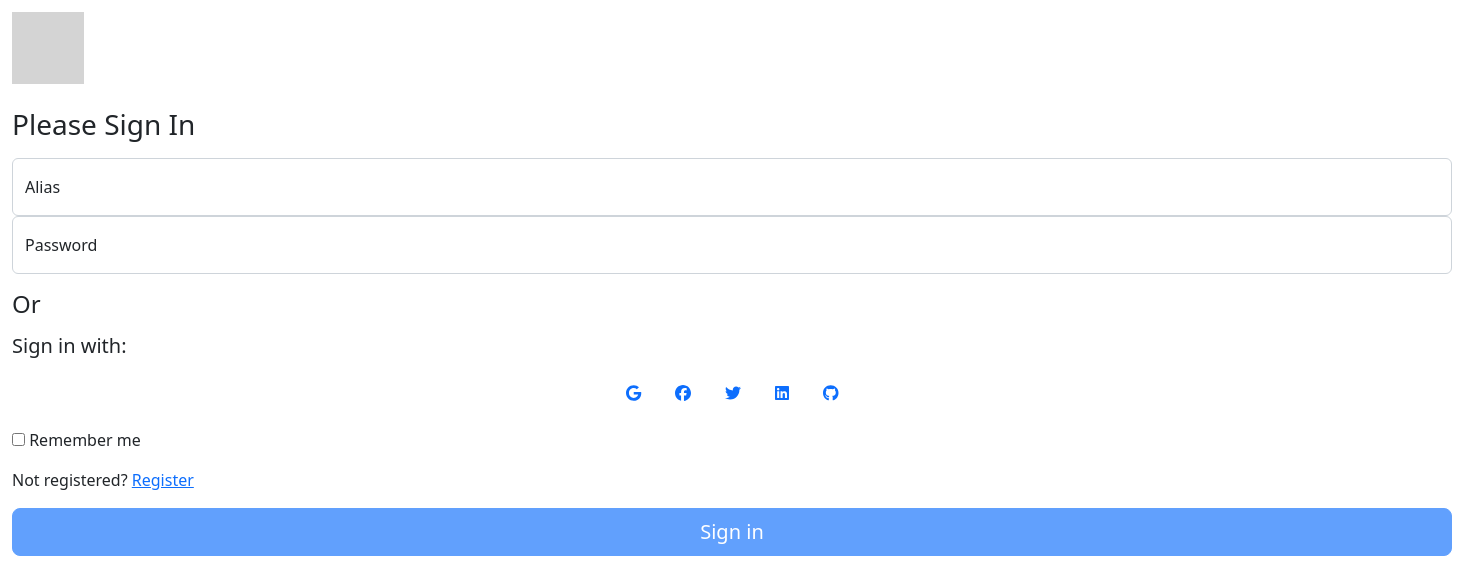
Test: Login Component › should disable sign-in button if either fields is cleared
Type "@alias" into the field labelled "Alias". click: (732, 187)
box: [12, 158, 1452, 216]
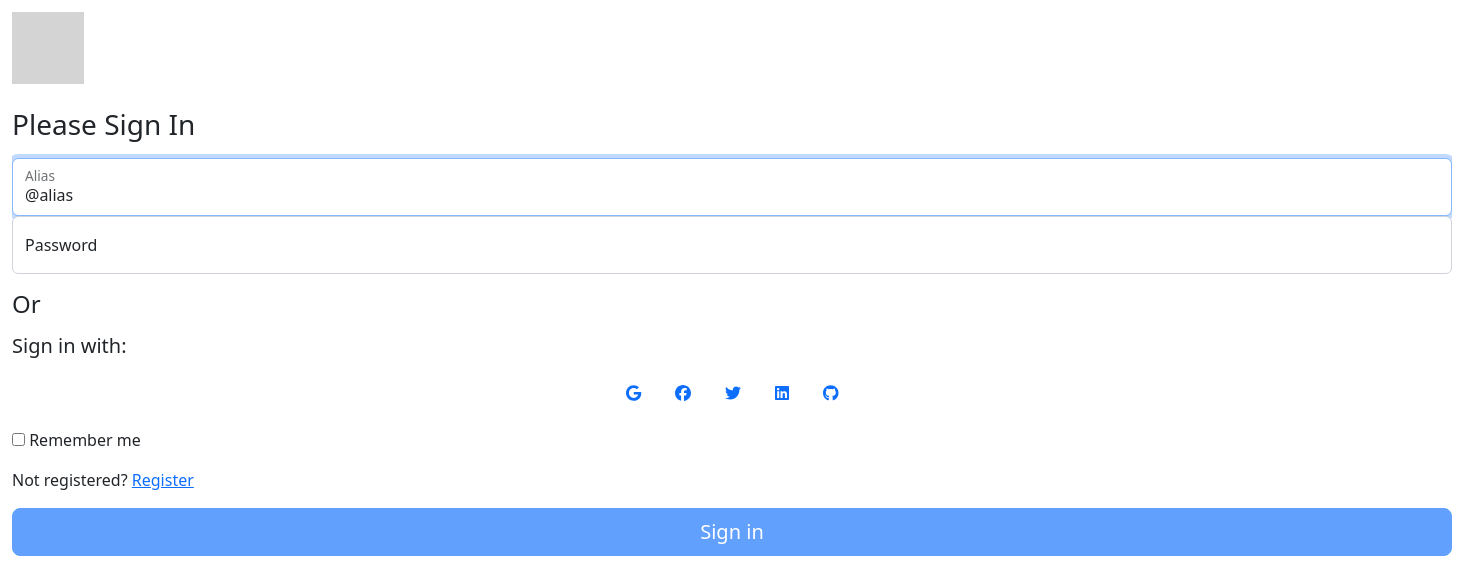
Type "password" into the password field labelled "Password". click: (732, 245)
box: [12, 216, 1452, 274]
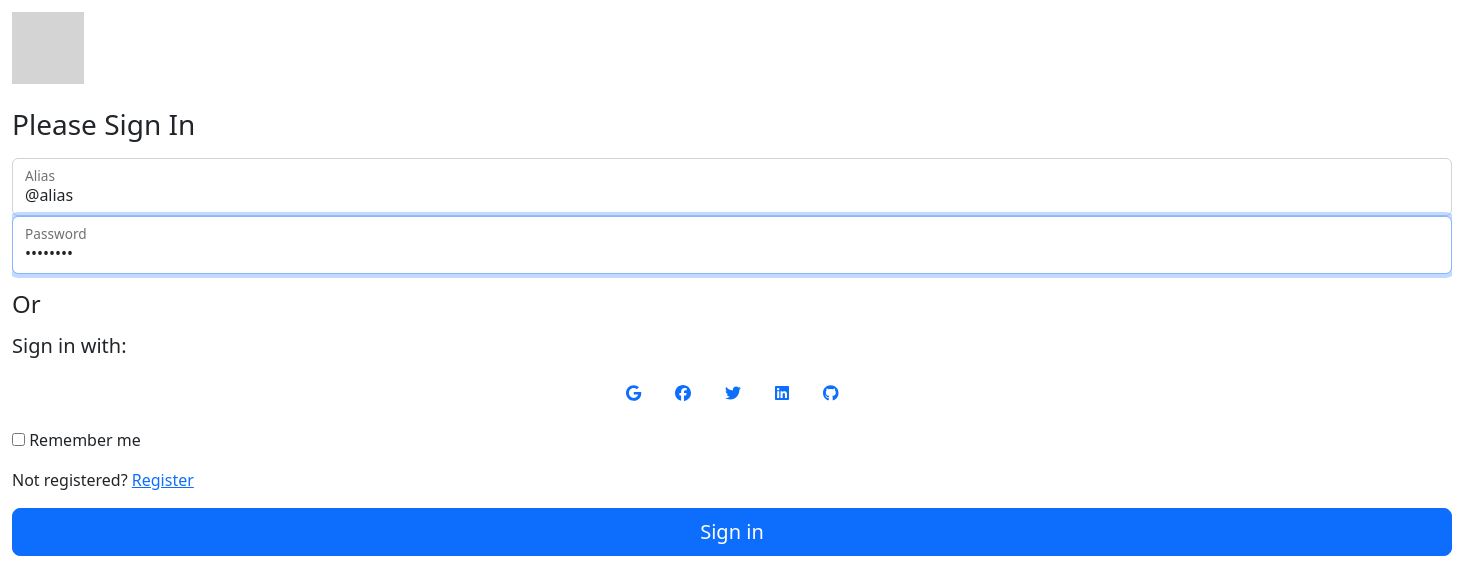
Expected: the button "Sign in" is enabled, [12, 508, 1452, 556]
Clear the field labelled "Alias". click: (732, 187)
box: [12, 158, 1452, 216]
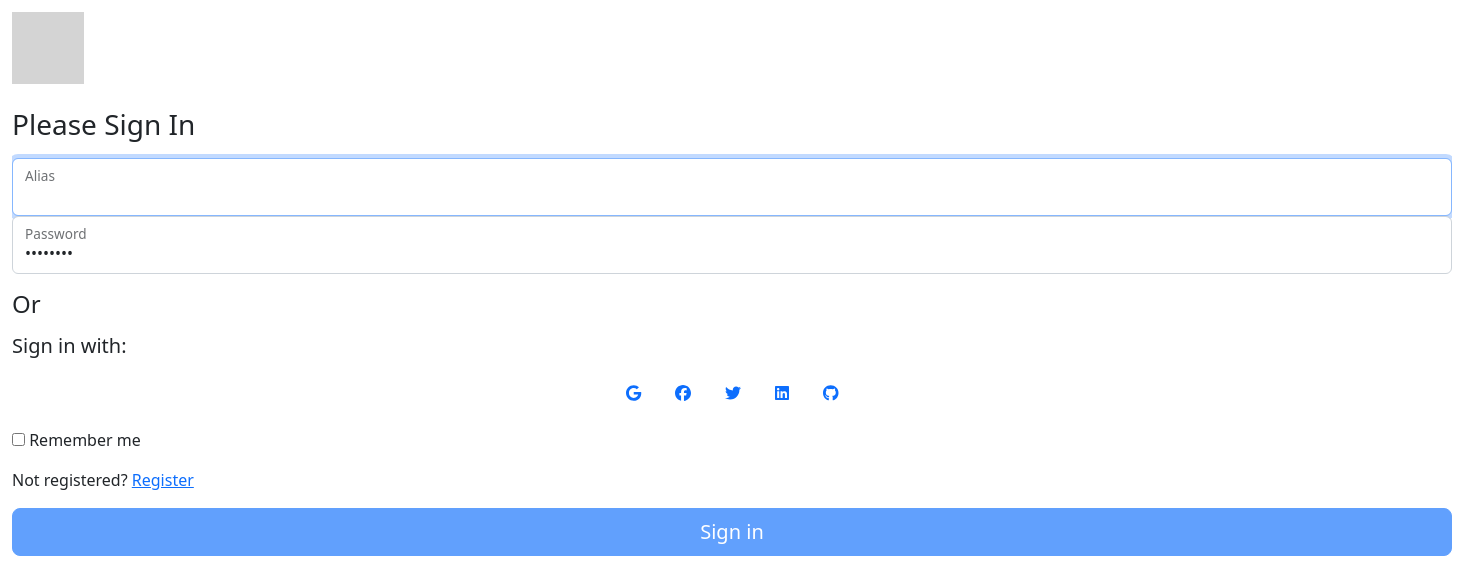
Expected: the button "Sign in" is disabled, [12, 508, 1452, 556]
Type "@alias" into the field labelled "Alias". click: (732, 187)
box: [12, 158, 1452, 216]
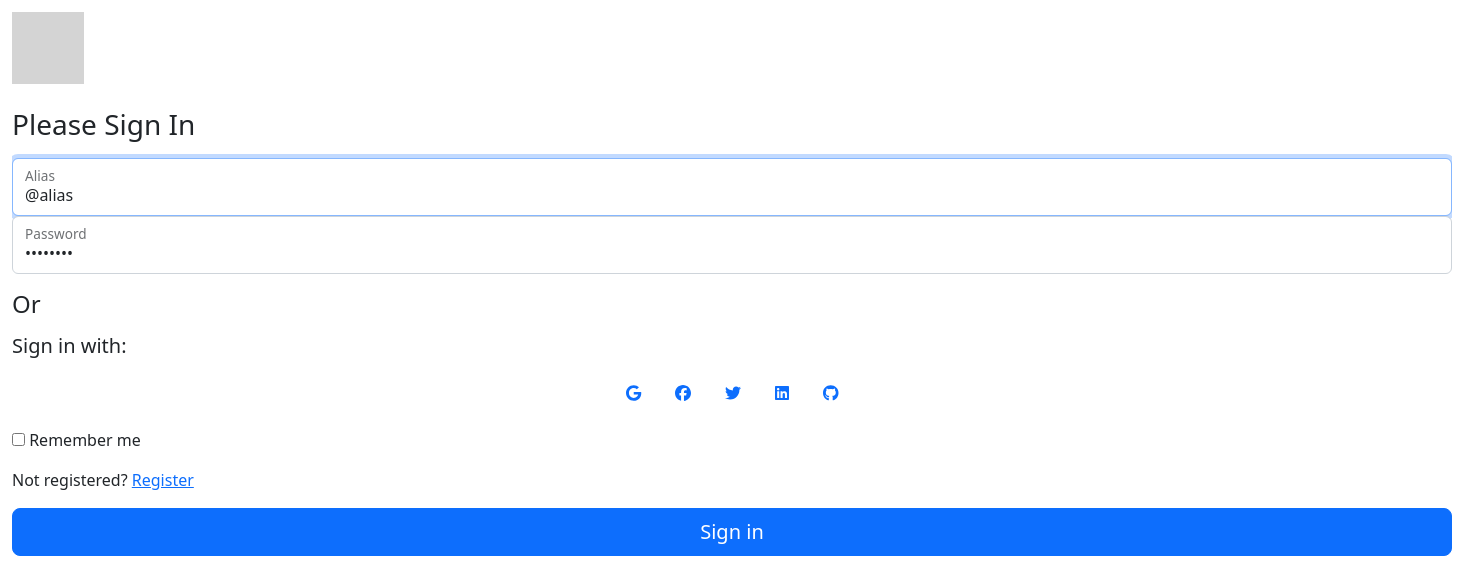
Expected: the button "Sign in" is enabled, [12, 508, 1452, 556]
Clear the password field labelled "Password". click: (732, 245)
box: [12, 216, 1452, 274]
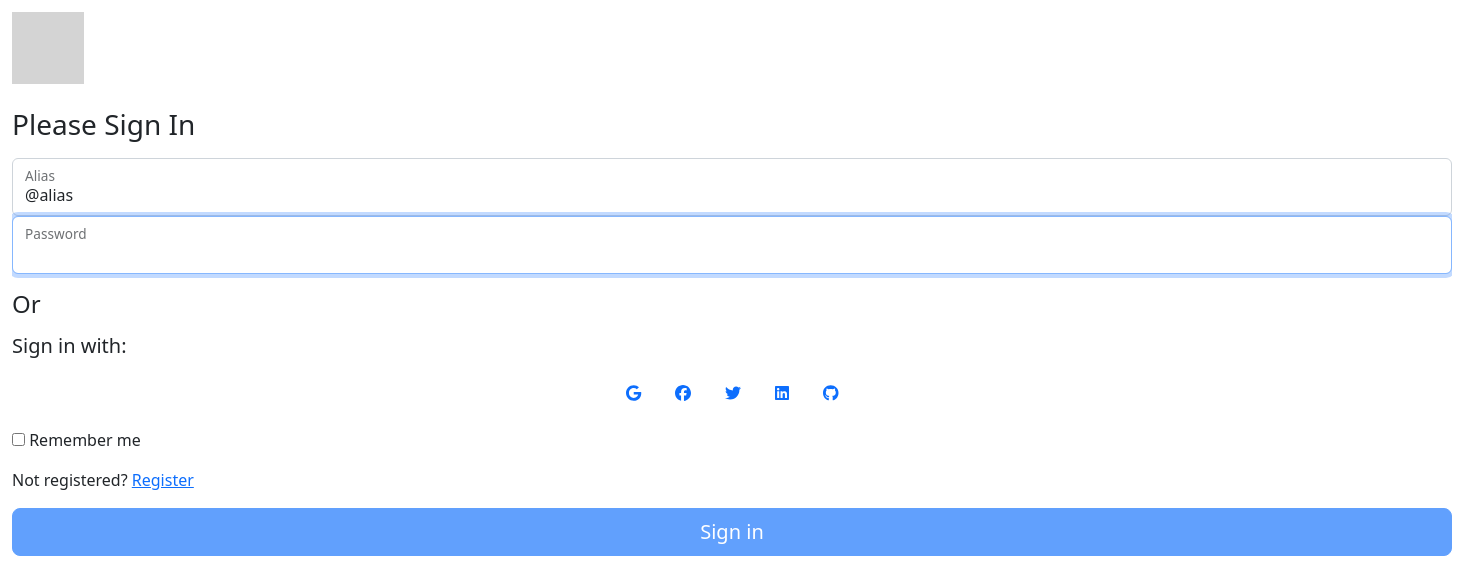
Expected: the button "Sign in" is disabled, [12, 508, 1452, 556]
